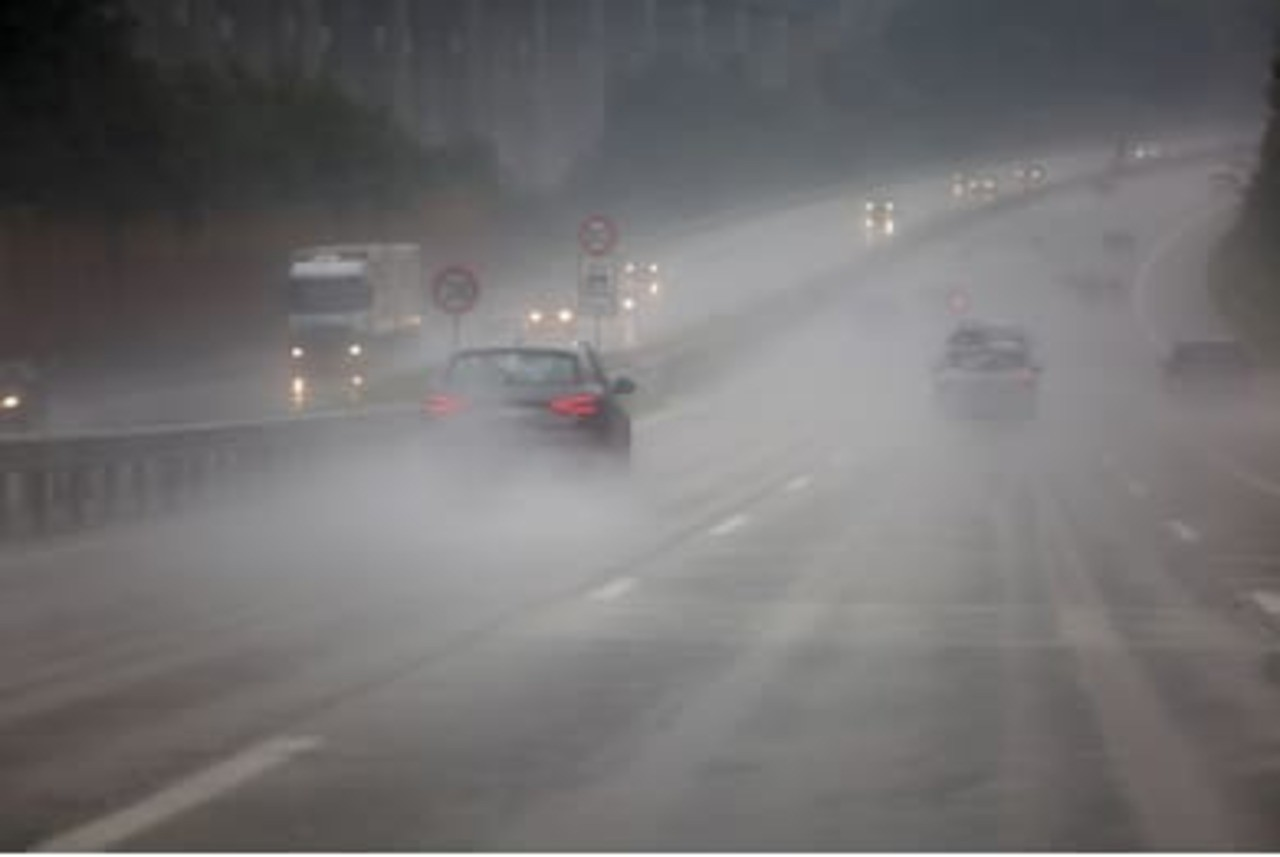car: (413, 348, 625, 494), (921, 340, 1041, 424), (1155, 337, 1249, 399), (4, 353, 47, 429), (524, 291, 578, 331), (622, 249, 663, 279)
truck: (292, 244, 422, 368)
